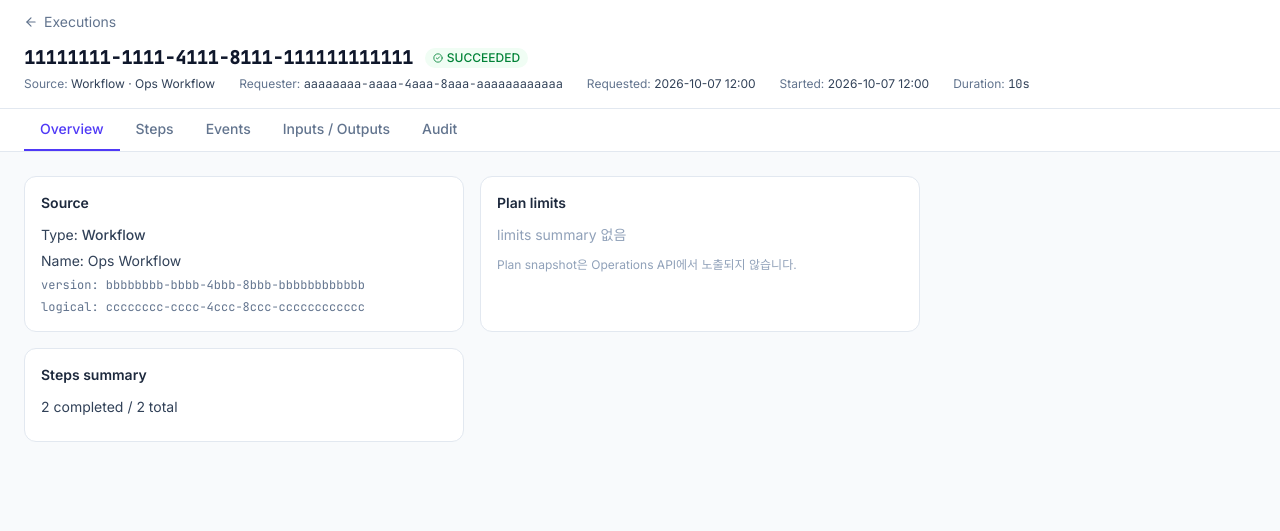
Test case: ExecutionDetail Events/IO boundaries › Events tab shows SSE timeline shell; IO shows safe result_summary only
The width and height of the screenshot is (1280, 531).
Expected: the heading "11111111-1111-4111-8111-111111111111" is shown, left=24, top=44, right=413, bottom=72
Click the button "Events".
click(228, 130)  # box left=190, top=109, right=267, bottom=151
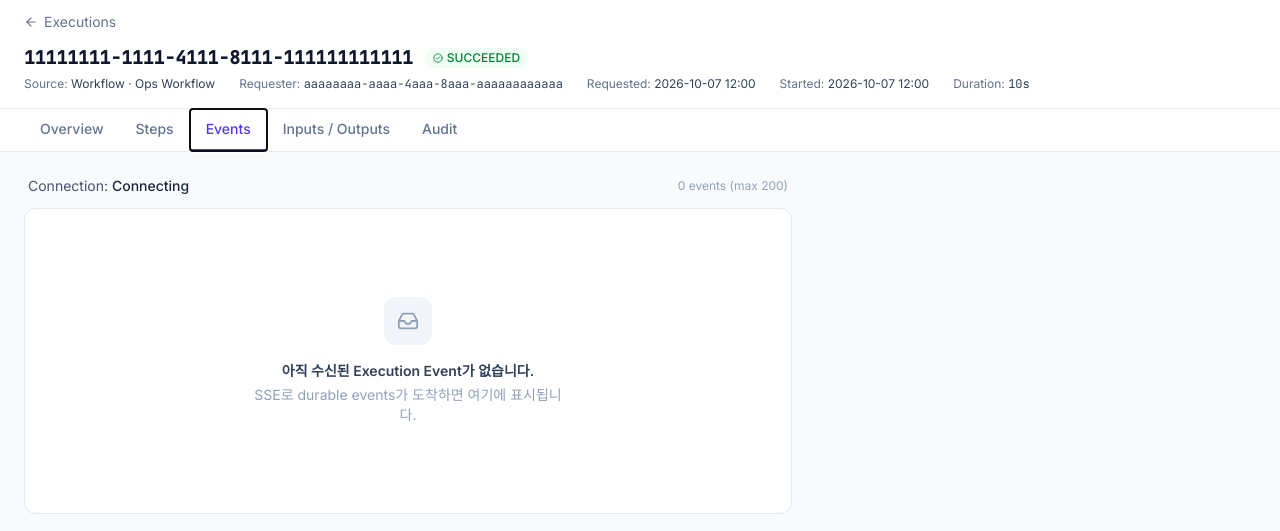
Expected: the heading "아직 수신된 Execution Event가 없습니다." is shown, left=282, top=361, right=534, bottom=381
Expected: the text "Connecting" is shown, left=112, top=177, right=189, bottom=194
Click the button "Inputs / Outputs".
click(336, 130)  # box left=267, top=109, right=406, bottom=151
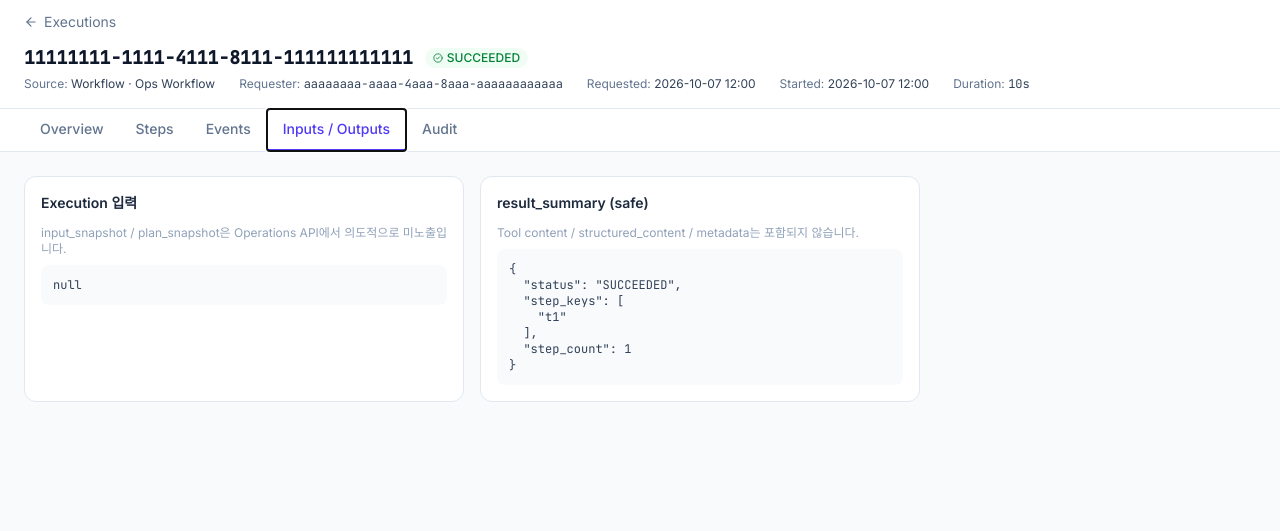
Expected: the text "input_snapshot / plan_snapshot은 Operations API에서 의도적으로 미노출" is shown, left=41, top=225, right=447, bottom=256
Expected: the text "\"step_keys\"" is shown, left=509, top=261, right=682, bottom=373
